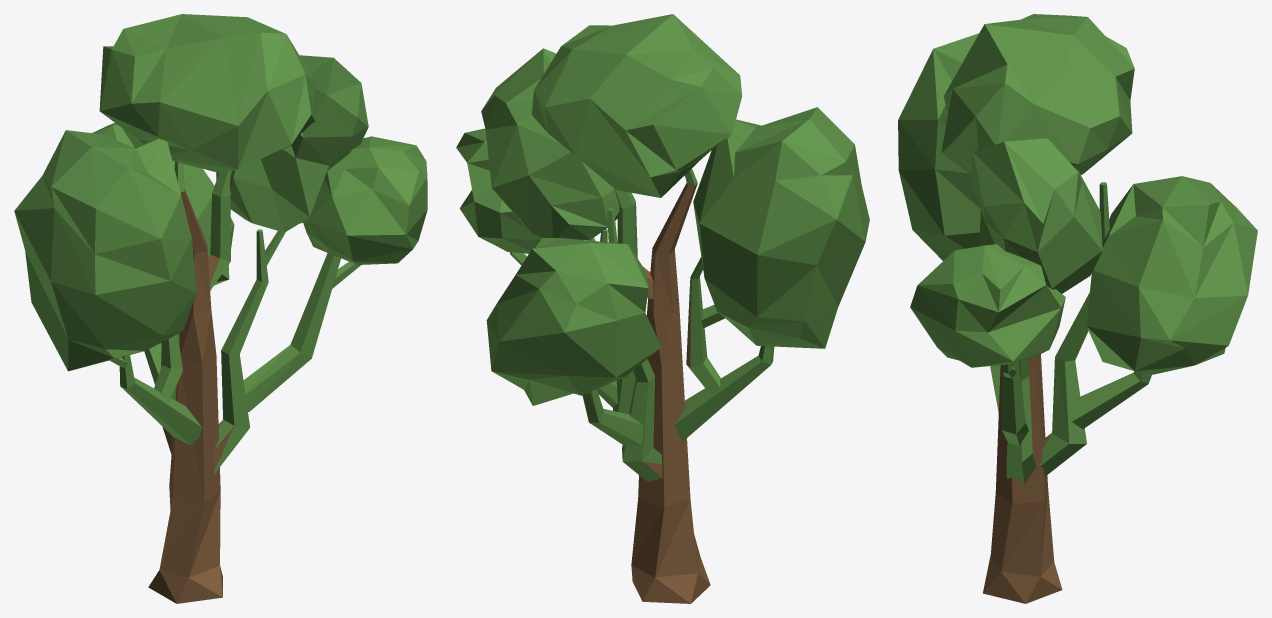
The model's file is tree3d-123.glb.
The picture shows the model from 3 angles, left to right: view 1: azimuth 30°, elevation 25°; view 2: azimuth 150°, elevation 25°; view 3: azimuth 270°, elevation 25°; orthographic projection. The views are drawn at different scales.
Visible parts, largest first — view 1: tree3d-123; view 2: tree3d-123; view 3: tree3d-123.
Part boxes in pixels (x1=…): tree3d-123: x1=14, y1=14, x2=427, y2=603; tree3d-123: x1=456, y1=14, x2=869, y2=603; tree3d-123: x1=898, y1=14, x2=1257, y2=603.
Bounding box in the file's own units: 0.7427 × 1 × 0.5726.
